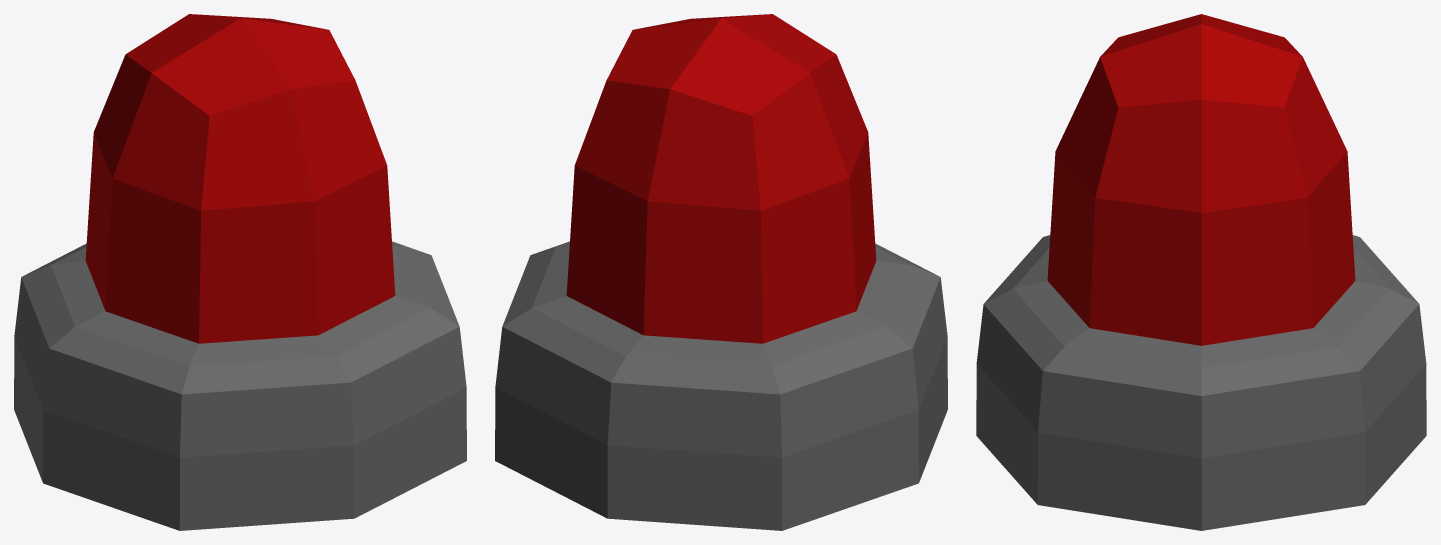
Rendered from SaftBlandare.fbx.
3 views of the same model, side by side, from view 1: azimuth 30°, elevation 25°; view 2: azimuth 150°, elevation 25°; view 3: azimuth 270°, elevation 25° (orthographic).
Visible parts, largest first — view 1: Cube.003; view 2: Cube.003; view 3: Cube.003.
Part boxes in pixels (x1,y1,x2,y2): Cube.003: (14, 14, 466, 530); Cube.003: (495, 14, 947, 530); Cube.003: (976, 14, 1426, 530).
Bounding box in the file's own units: 40.04 × 40.41 × 40.04.
